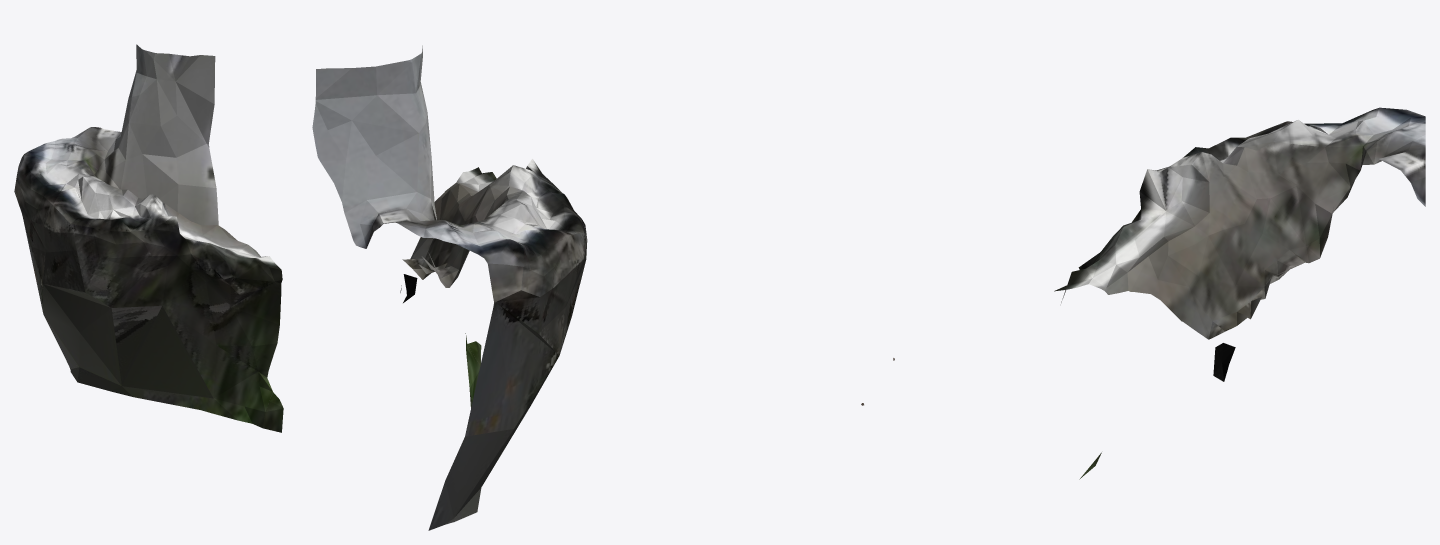
3 renders of one model, left to right at view 1: azimuth 30°, elevation 25°; view 2: azimuth 150°, elevation 25°; view 3: azimuth 270°, elevation 25°, orthographic. The views are drawn at different scales.
Bounding box in the file's own units: 0.6393 × 0.8374 × 0.8374.
Materials: 2 (2 with a texture image).
